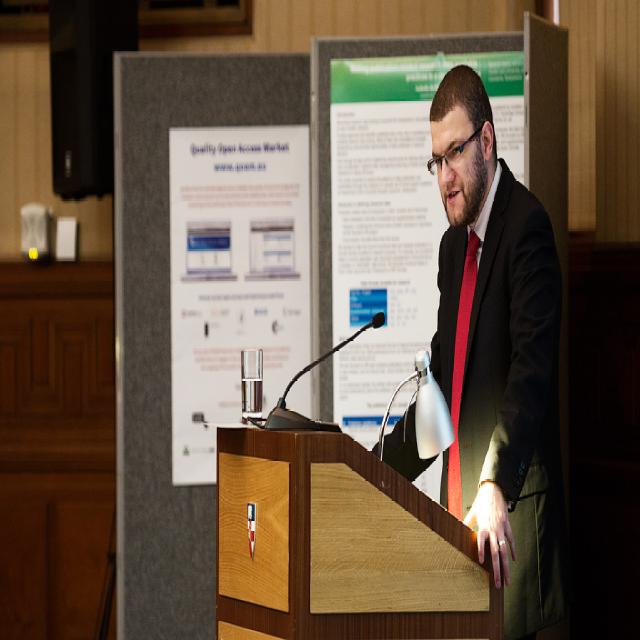desk: (208, 408, 513, 615)
person: (422, 65, 570, 631)
